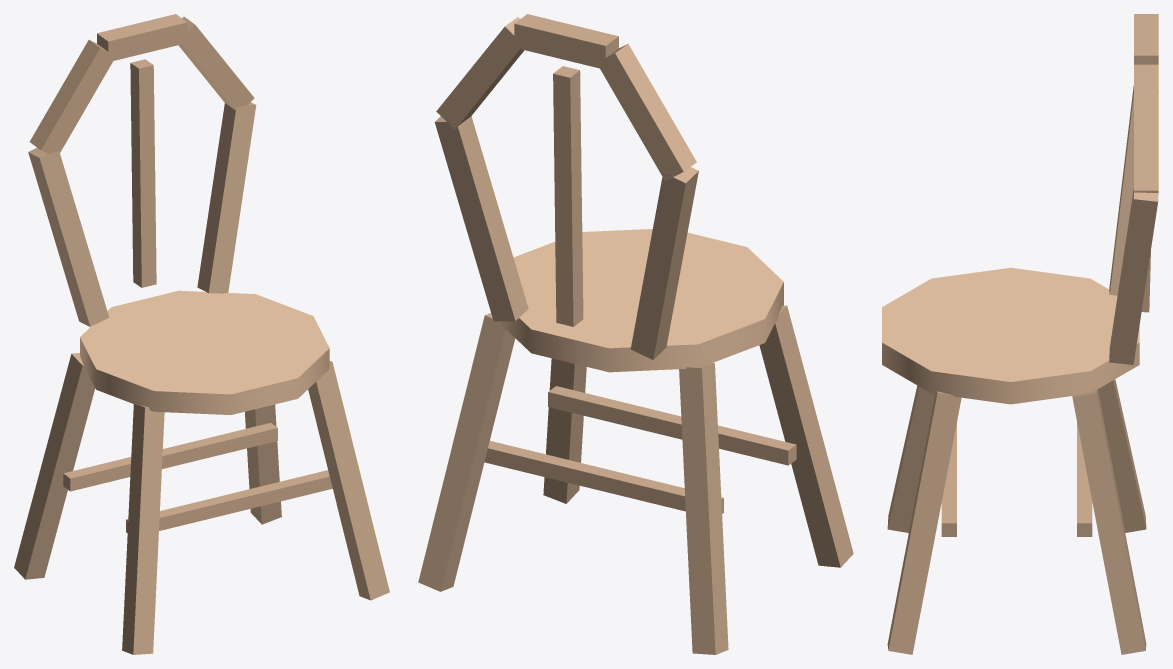
The model's file is chairBentwood.glb.
3 views of the same model, side by side, from view 1: azimuth 30°, elevation 25°; view 2: azimuth 150°, elevation 25°; view 3: azimuth 270°, elevation 25° (orthographic). The views are drawn at different scales.
Visible parts, largest first — view 1: chairBentwood; view 2: chairBentwood; view 3: chairBentwood.
Part boxes in pixels (<box>): chairBentwood: <box>14,14,389,654</box>; chairBentwood: <box>418,14,853,654</box>; chairBentwood: <box>882,14,1158,654</box>.
Size of the model in its own units: 0.2597 by 0.4984 by 0.2248.
